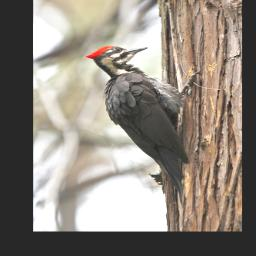Woodpecker: (84, 45, 201, 205)
